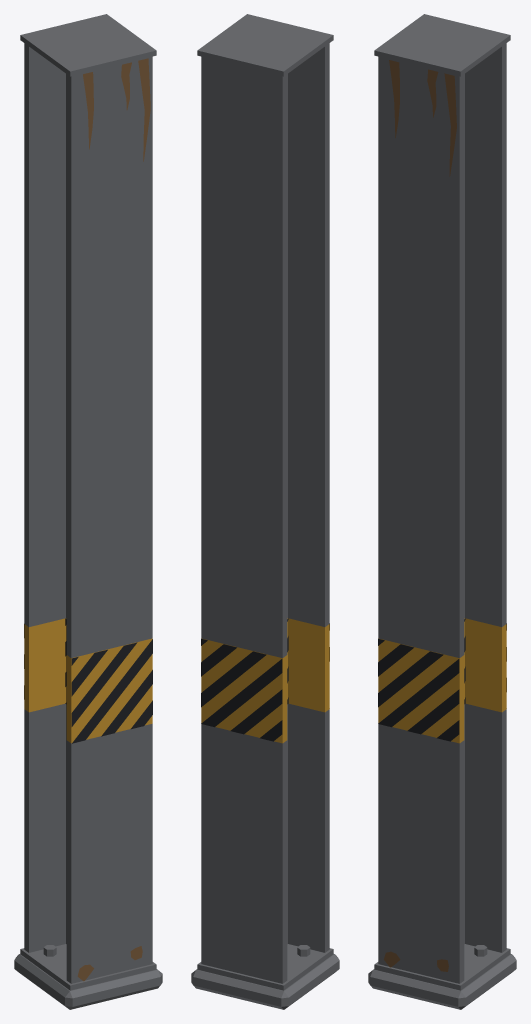
File: Basement_SupportColumn.fbx
3 views of the same model, side by side, from view 1: azimuth 30°, elevation 25°; view 2: azimuth 150°, elevation 25°; view 3: azimuth 330°, elevation 25° (orthographic).
Parts seen in each view (by area): view 1: Beam, HazardBand, HazardStripes, Footing, Rust; view 2: Beam, HazardBand, HazardStripes, Footing; view 3: Beam, HazardBand, HazardStripes, Footing, Rust.
Part boxes in pixels (x1,y1,x2,y2): Beam: (20,14,156,990); HazardBand: (24,618,152,743); HazardStripes: (24,618,152,743); Footing: (14,954,162,1009); Rust: (77,58,150,981); Beam: (197,14,333,990); HazardBand: (201,618,329,743); HazardStripes: (201,618,329,741); Footing: (191,954,339,1009); Beam: (374,14,510,990); HazardBand: (378,618,506,743); HazardStripes: (378,618,506,741); Footing: (368,954,516,1009); Rust: (384,60,456,971).
Bounding box in the file's own units: 120 × 1100 × 120.
